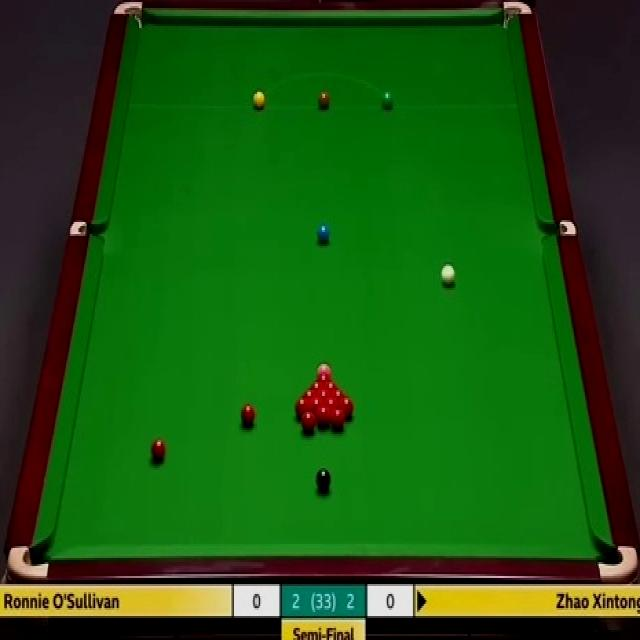black-ball: (314, 467, 330, 491)
blue-ball: (316, 225, 331, 242)
brown-ball: (318, 91, 329, 109)
green-ball: (380, 88, 395, 110)
pink-ball: (317, 364, 332, 378)
red-ball: (298, 410, 316, 433), (150, 440, 166, 462), (316, 405, 331, 427), (240, 404, 255, 426), (337, 397, 352, 418), (295, 397, 308, 419), (331, 410, 345, 430), (325, 398, 338, 419), (304, 389, 315, 401), (318, 390, 329, 402), (318, 375, 328, 387)
white-ball: (440, 262, 458, 288)
yellow-ball: (253, 90, 265, 110)
